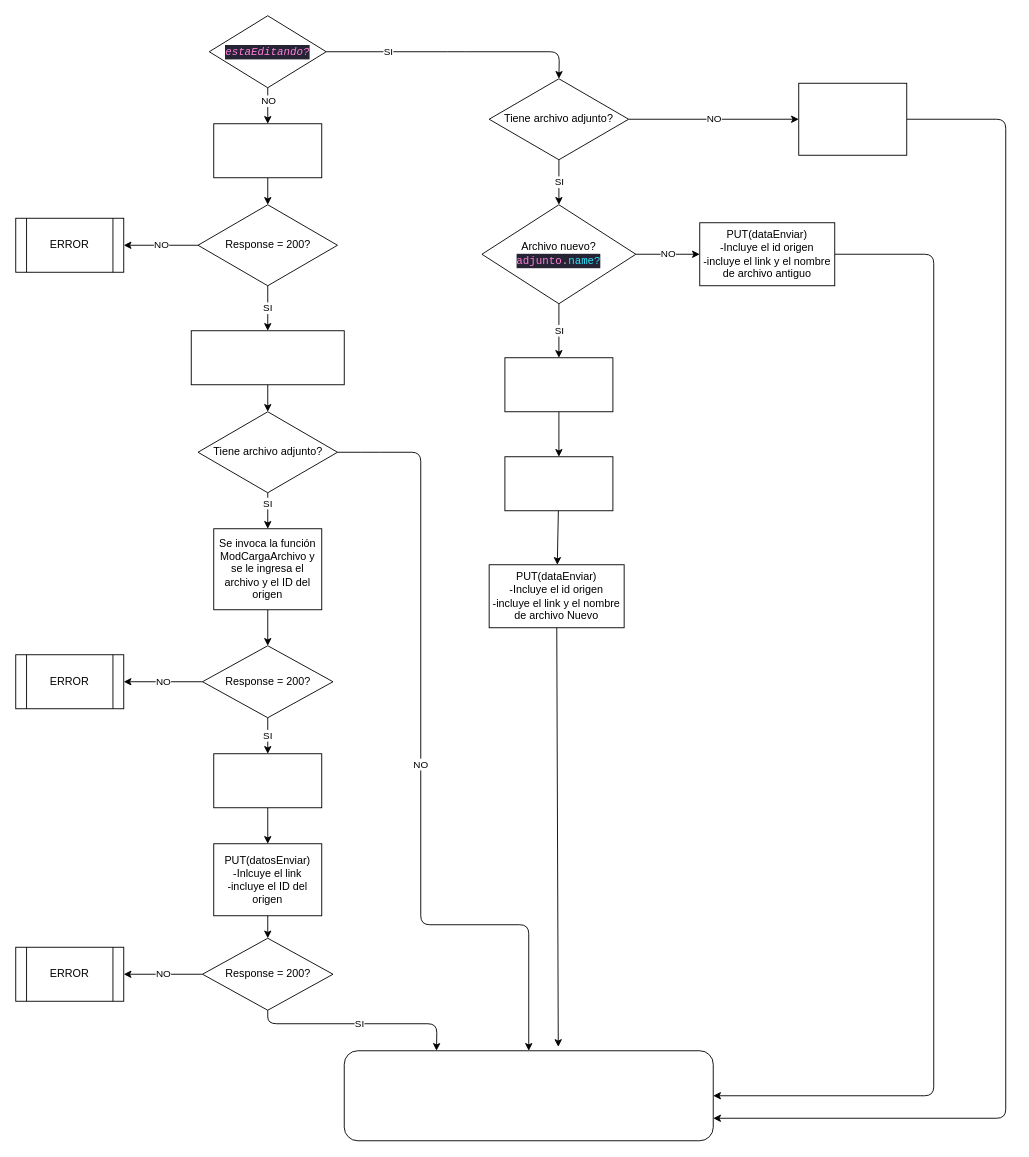
Image size: 1029x1157. Some labels were removed from this diagram. The shapes that lost their labels are listed below. From the top down, each one's centre as x and y in pixels, then its label:
At (852,118): "PUT(datosEnviar) -NO inlcuye el link -incluye el ID del origen".
At (267,150): "POST(datosEnviar) -No incluiye ID -Link empieza vacio".
At (267,357): "Se recibe el ID ( response . data . idorigen )".
At (558,384): "ModCargaArchivo".
At (558,483): "Retorna el link del archivo nuevo".
At (267,780): "ModCargaArchivo retorna el link del archivo".
At (528,1095): "FIN".
